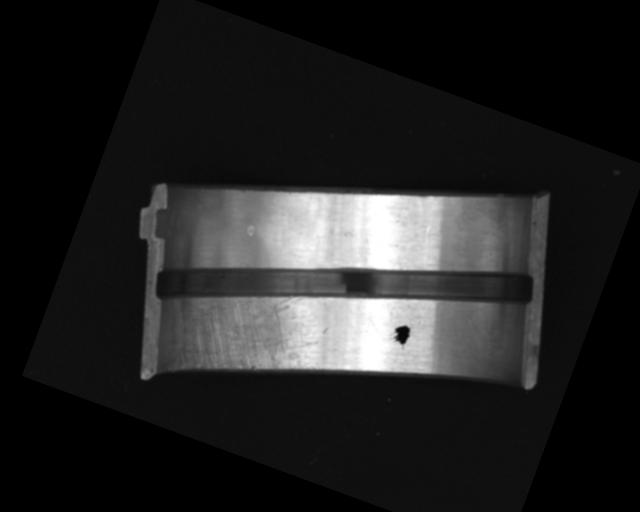blot: (387, 320, 414, 351)
bruise: (244, 224, 256, 238)
gap: (152, 156, 541, 418)
nick: (413, 225, 439, 270)
scratch: (167, 258, 335, 411)
